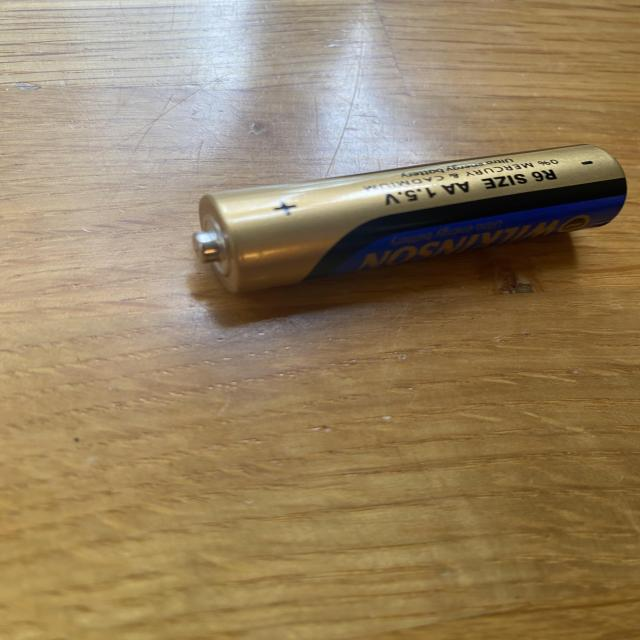AA: (192, 142, 627, 295)
